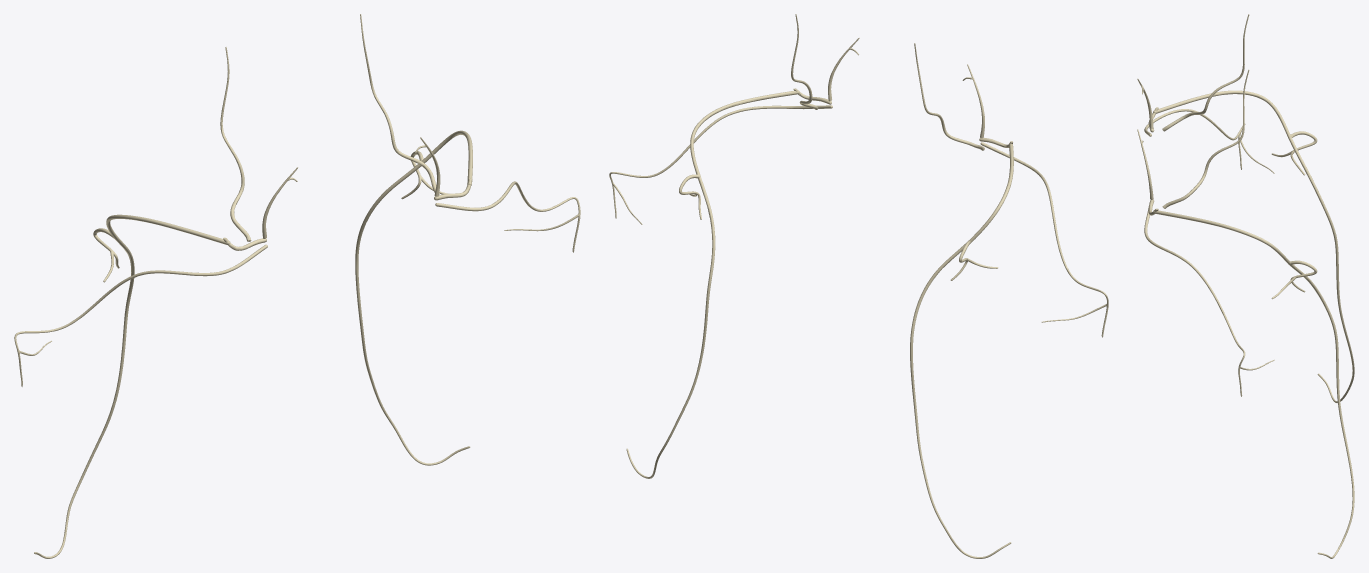
File: bodyparts3d-arterial-head-neck.glb
3 renders of one model, left to right at view 1: azimuth 30°, elevation 25°; view 2: azimuth 150°, elevation 25°; view 3: azimuth 270°, elevation 25°, orthographic. The views are drawn at different scales.
Visible parts, largest first — view 1: arterial-fma4057, arterial-fma10552, arterial-fma10698, arterial-fma10681, arterial-fma10660, arterial-fma4134; view 2: arterial-fma10552, arterial-fma4057, arterial-fma10681, arterial-fma10698; view 3: arterial-fma4057, arterial-fma10552, arterial-fma10681, arterial-fma4134, arterial-fma10698, arterial-fma10660.
Part boxes in pixels (left/top/right/bottom): arterial-fma4057: left=34, top=214, right=230, bottom=558; arterial-fma10552: left=355, top=130, right=472, bottom=465; arterial-fma10698: left=14, top=244, right=267, bottom=386; arterial-fma10681: left=435, top=181, right=580, bottom=252; arterial-fma10660: left=220, top=47, right=251, bottom=241; arterial-fma4134: left=360, top=14, right=439, bottom=194; arterial-fma10552: left=626, top=90, right=799, bottom=478; arterial-fma4057: left=910, top=143, right=1013, bottom=558; arterial-fma10681: left=609, top=105, right=832, bottom=224; arterial-fma10698: left=980, top=142, right=1108, bottom=337; arterial-fma4057: left=1153, top=90, right=1354, bottom=403; arterial-fma10552: left=1153, top=210, right=1354, bottom=558; arterial-fma10681: left=1144, top=206, right=1274, bottom=396; arterial-fma4134: left=1162, top=69, right=1249, bottom=208; arterial-fma10698: left=1144, top=109, right=1274, bottom=173; arterial-fma10660: left=1162, top=14, right=1249, bottom=131.
Size of the model in its own units: 0.2762 by 0.2421 by 0.1091.
